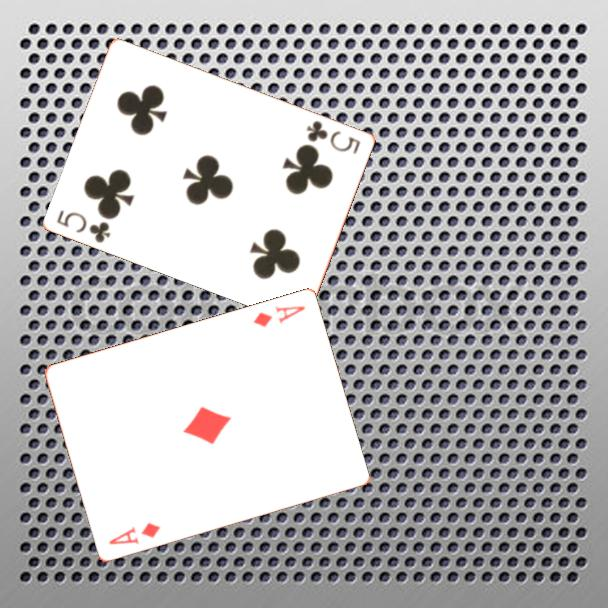c05: (303, 117, 364, 157), (54, 206, 114, 246)
d01: (105, 519, 164, 548), (250, 303, 308, 331)
